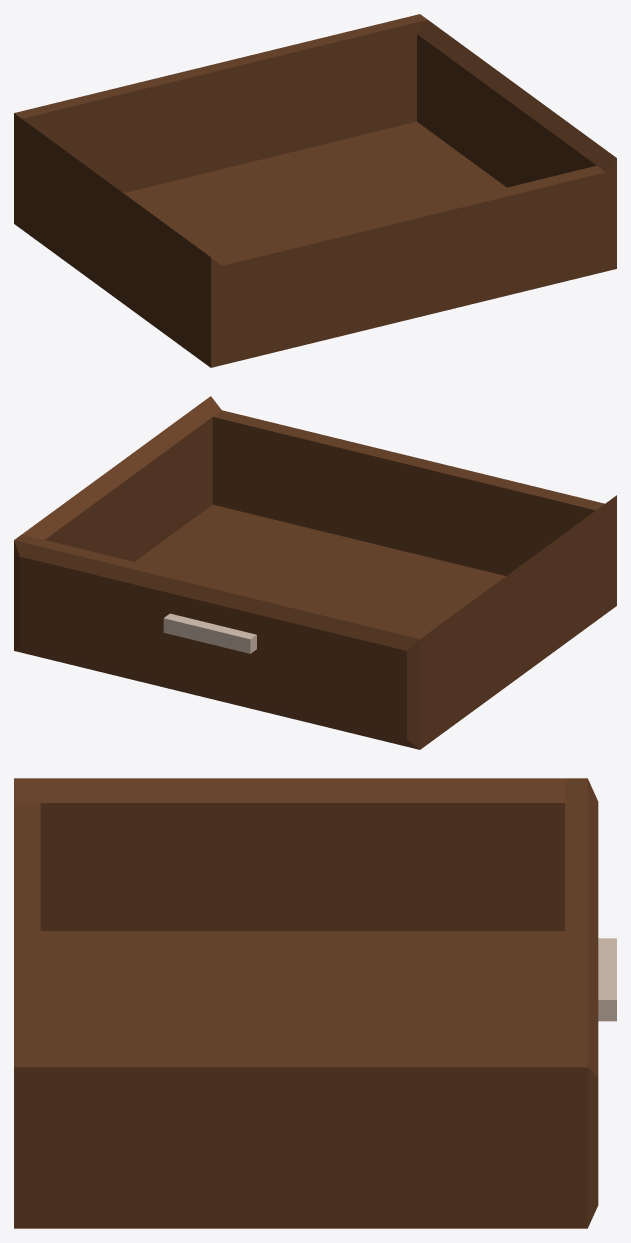
File: Dresser Small Drawer seperate.fbx
3 renders of one model, top to bottom at view 1: azimuth 30°, elevation 25°; view 2: azimuth 150°, elevation 25°; view 3: azimuth 270°, elevation 25°, orthographic. The views are drawn at different scales.
Parts seen in each view (by area): view 1: Dresser Small Parts 1.002; view 2: Dresser Small Parts 1.002; view 3: Dresser Small Parts 1.002.
Boxes of the visible parts, <box> form: Dresser Small Parts 1.002: <box>14,14,616,367</box>; Dresser Small Parts 1.002: <box>14,396,616,749</box>; Dresser Small Parts 1.002: <box>14,778,616,1228</box>.
Size of the model in its own units: 362 by 94.22 by 319.
